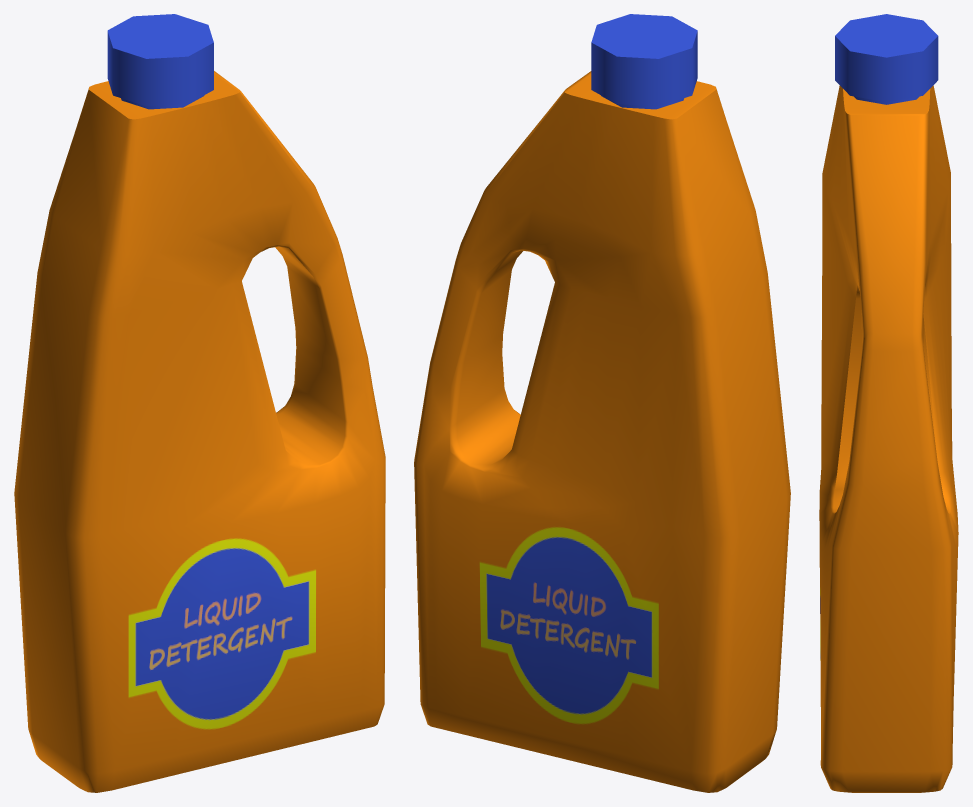
Rendered from Laundry_detergent_2.fbx.
3 renders of one model, left to right at view 1: azimuth 30°, elevation 25°; view 2: azimuth 150°, elevation 25°; view 3: azimuth 270°, elevation 25°, orthographic. The views are drawn at different scales.
Visible parts, largest first — view 1: Laundry_detergent_2; view 2: Laundry_detergent_2; view 3: Laundry_detergent_2.
Part boxes in pixels (x1,y1,x2,y2): Laundry_detergent_2: (14,14,385,792); Laundry_detergent_2: (414,14,790,792); Laundry_detergent_2: (819,14,958,792).
Size of the model in its own units: 12.22 by 25.99 by 4.89.
